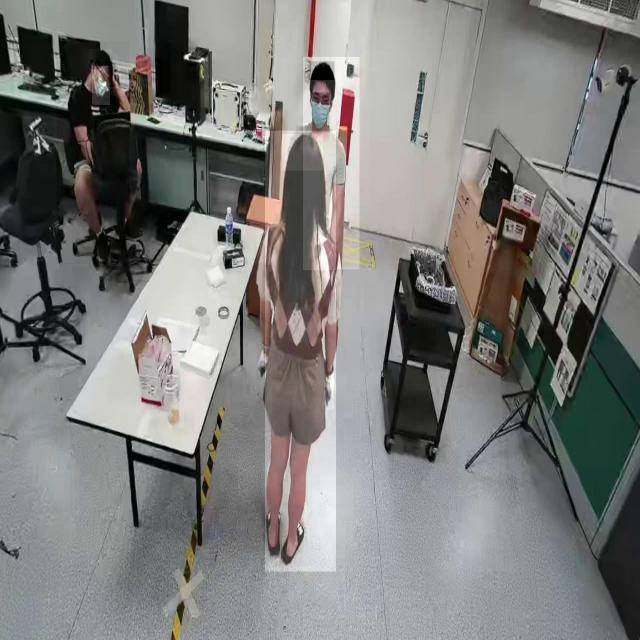gloves: (324, 369, 336, 411), (257, 344, 269, 381)
